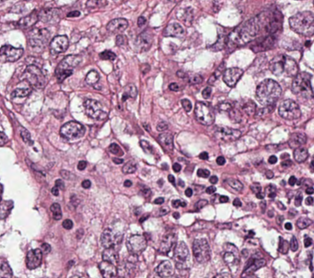nucleus: (225, 12, 274, 47), (55, 55, 81, 81), (256, 79, 280, 105), (20, 65, 44, 88), (83, 99, 106, 119), (194, 102, 214, 125), (29, 29, 49, 51), (60, 121, 84, 139), (126, 234, 146, 255), (213, 127, 241, 141), (158, 232, 176, 253), (252, 35, 275, 51), (0, 45, 23, 61), (223, 67, 242, 86), (101, 229, 121, 247), (17, 11, 38, 28), (50, 35, 68, 54), (135, 31, 152, 51), (39, 8, 59, 23), (157, 132, 172, 152), (106, 18, 127, 32), (163, 22, 184, 36), (178, 7, 193, 25), (121, 84, 136, 101), (255, 105, 273, 117), (226, 178, 242, 191), (20, 128, 32, 145), (85, 70, 99, 84), (212, 63, 225, 78), (242, 100, 255, 115), (228, 107, 241, 122), (11, 88, 30, 98), (0, 201, 11, 218), (139, 140, 153, 153), (50, 203, 61, 219), (108, 143, 122, 155), (122, 161, 135, 173), (188, 74, 202, 84), (100, 50, 115, 59), (194, 199, 207, 209), (218, 102, 232, 111), (266, 184, 275, 198), (181, 99, 191, 111), (140, 185, 150, 197), (156, 121, 167, 131), (202, 86, 211, 98), (197, 168, 209, 177), (60, 170, 72, 179), (172, 199, 185, 207), (250, 183, 260, 193), (62, 219, 72, 229), (116, 34, 125, 45), (86, 0, 99, 7), (77, 160, 86, 170), (55, 179, 64, 189), (168, 83, 179, 90), (137, 16, 145, 25), (0, 132, 6, 144), (82, 179, 90, 188), (153, 197, 163, 204), (66, 11, 79, 16), (217, 223, 230, 228), (268, 155, 276, 163), (216, 156, 224, 164), (172, 163, 180, 171), (209, 175, 217, 183), (233, 198, 241, 206), (199, 152, 208, 159), (206, 186, 215, 193), (219, 195, 228, 202), (208, 75, 215, 83), (265, 170, 272, 178), (51, 187, 58, 195), (185, 188, 192, 196), (140, 214, 148, 221), (266, 145, 277, 150), (176, 71, 185, 77), (256, 191, 263, 198), (277, 202, 284, 209), (168, 175, 174, 183), (113, 158, 122, 163), (260, 202, 265, 211), (124, 180, 131, 186), (277, 216, 283, 223), (173, 212, 179, 218), (178, 180, 183, 186)
